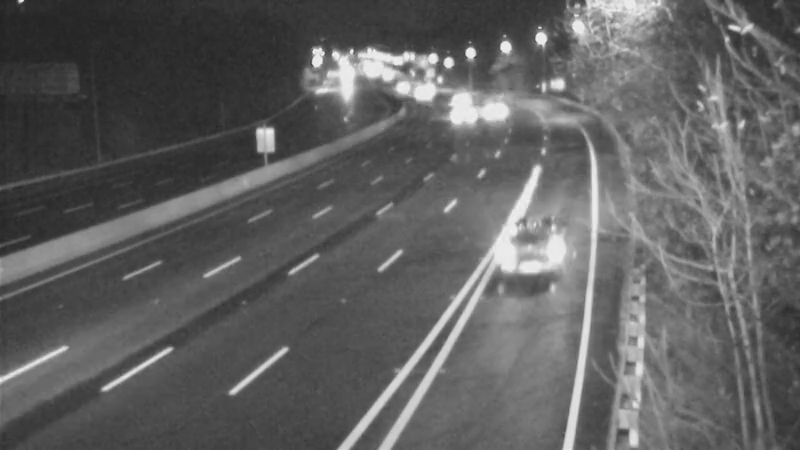vehicle: (483, 220, 563, 300), (374, 61, 424, 111), (396, 72, 446, 122), (429, 74, 479, 124), (461, 84, 511, 134), (435, 94, 485, 144)
